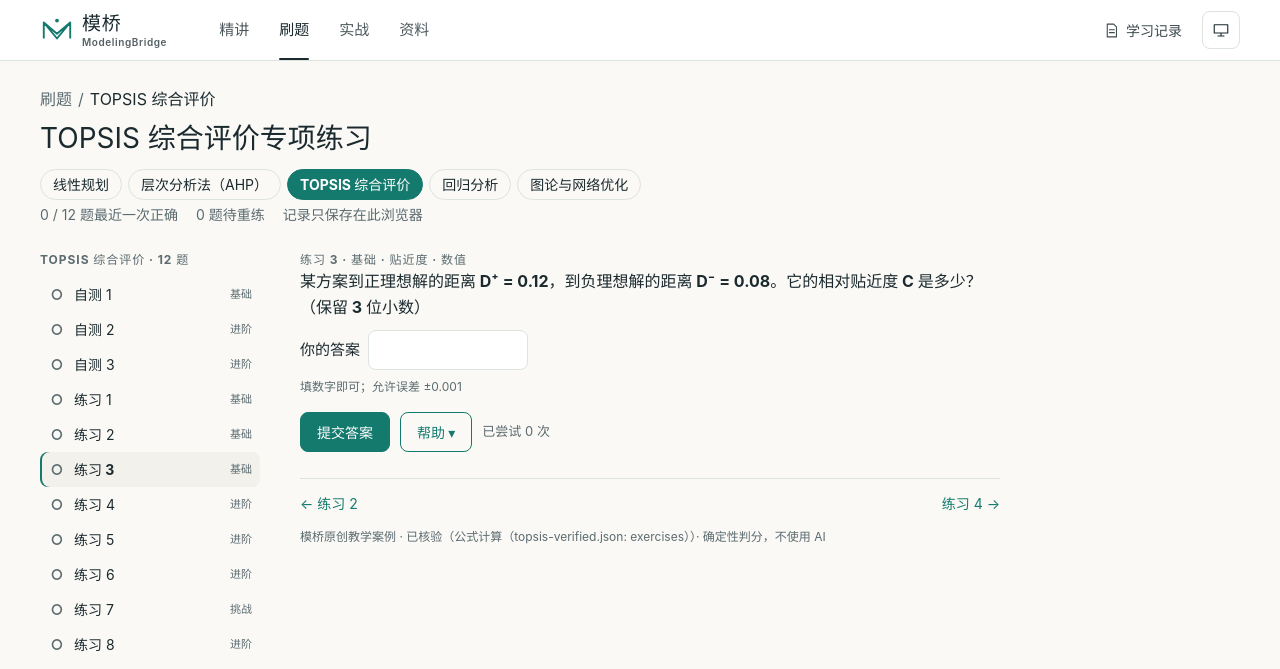
Test case: practice loop › diagnoses a closeness mistake, sends the learner to the TOPSIS section and brings them back
Expected: the heading "TOPSIS 综合评价专项练习" is shown, [40, 121, 372, 155]
Type "0.6" into the field named "你的数值答案".
click(448, 350); type("0.6")  # box [368, 330, 528, 370]
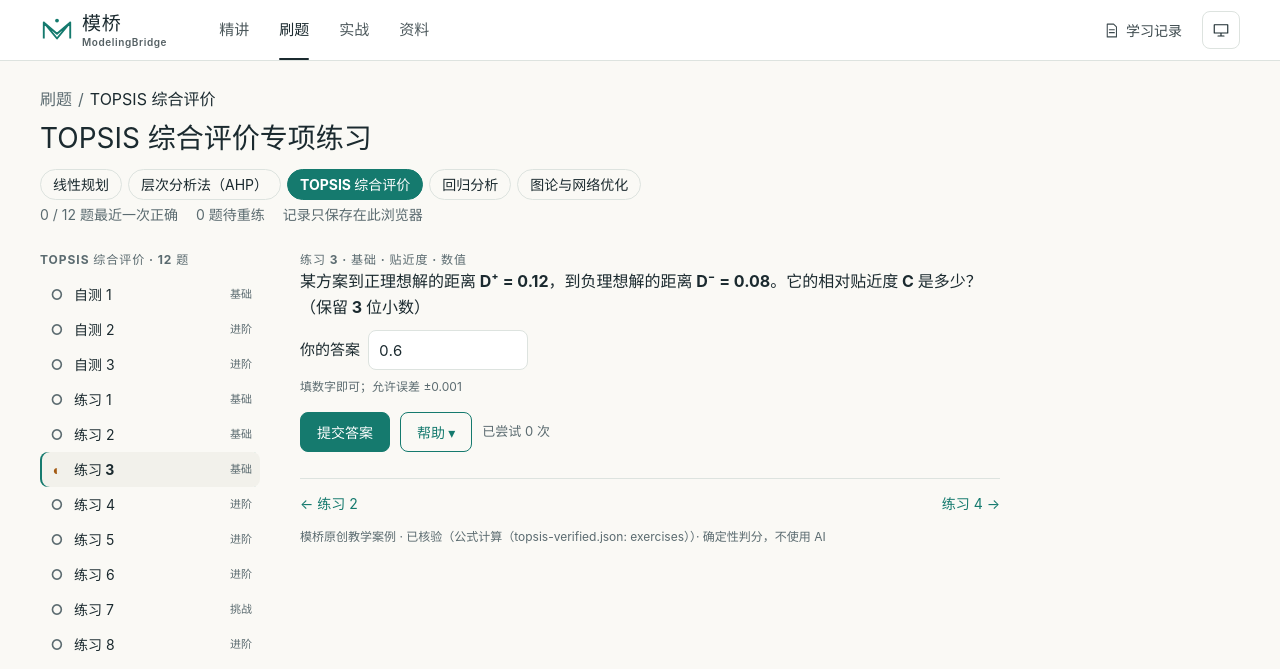
Click the button "提交答案".
click(345, 432)  # box [300, 412, 390, 452]
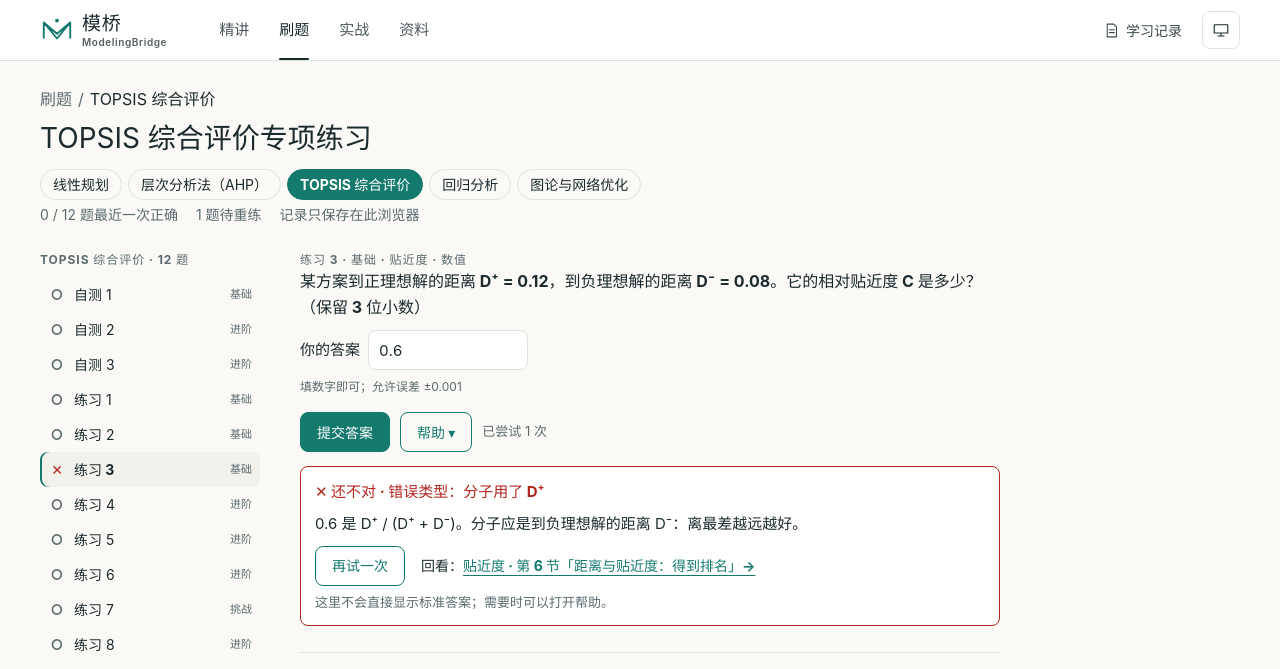
Expected: the text "错误类型：分子用了 D⁺" does not show "0.400", [300, 466, 1000, 626]
Click the button "贴近度 · 第 6 节「距离与贴近度：得到排名」→".
click(609, 566)  # box [463, 554, 755, 578]
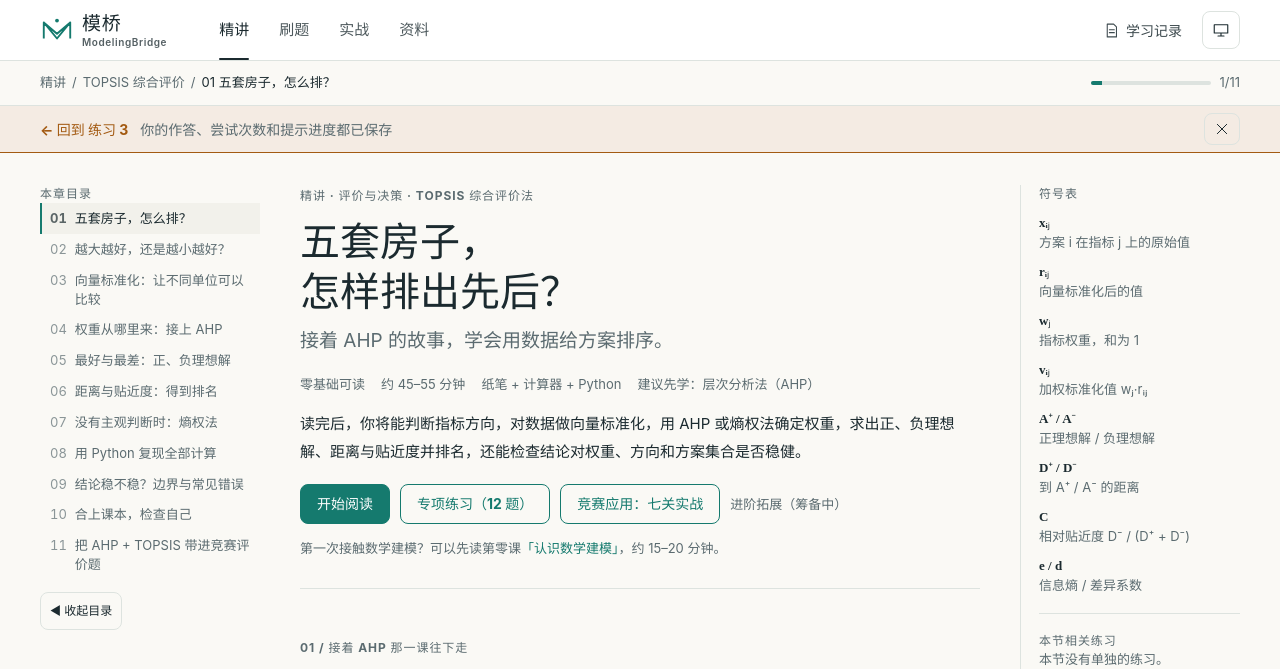
Click the link "← 回到 练习 3".
click(84, 129)  # box [40, 118, 128, 140]
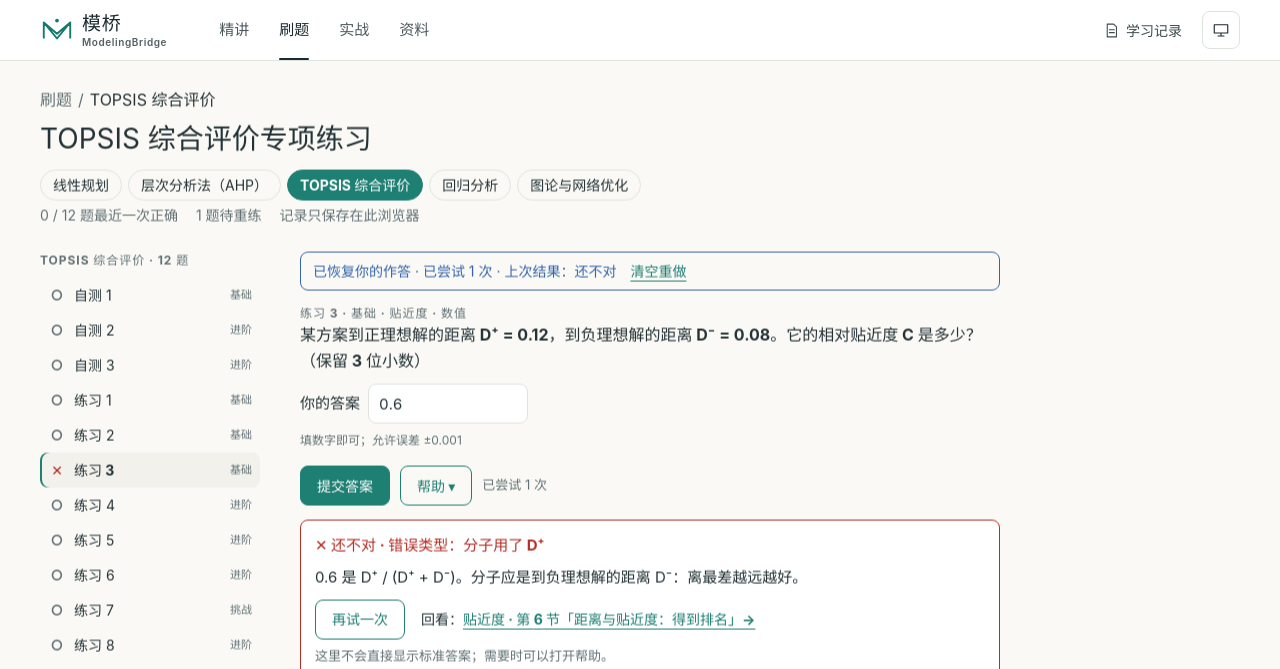
Result: the field named "你的数值答案" holds "0.6" at [368, 383, 528, 423]
